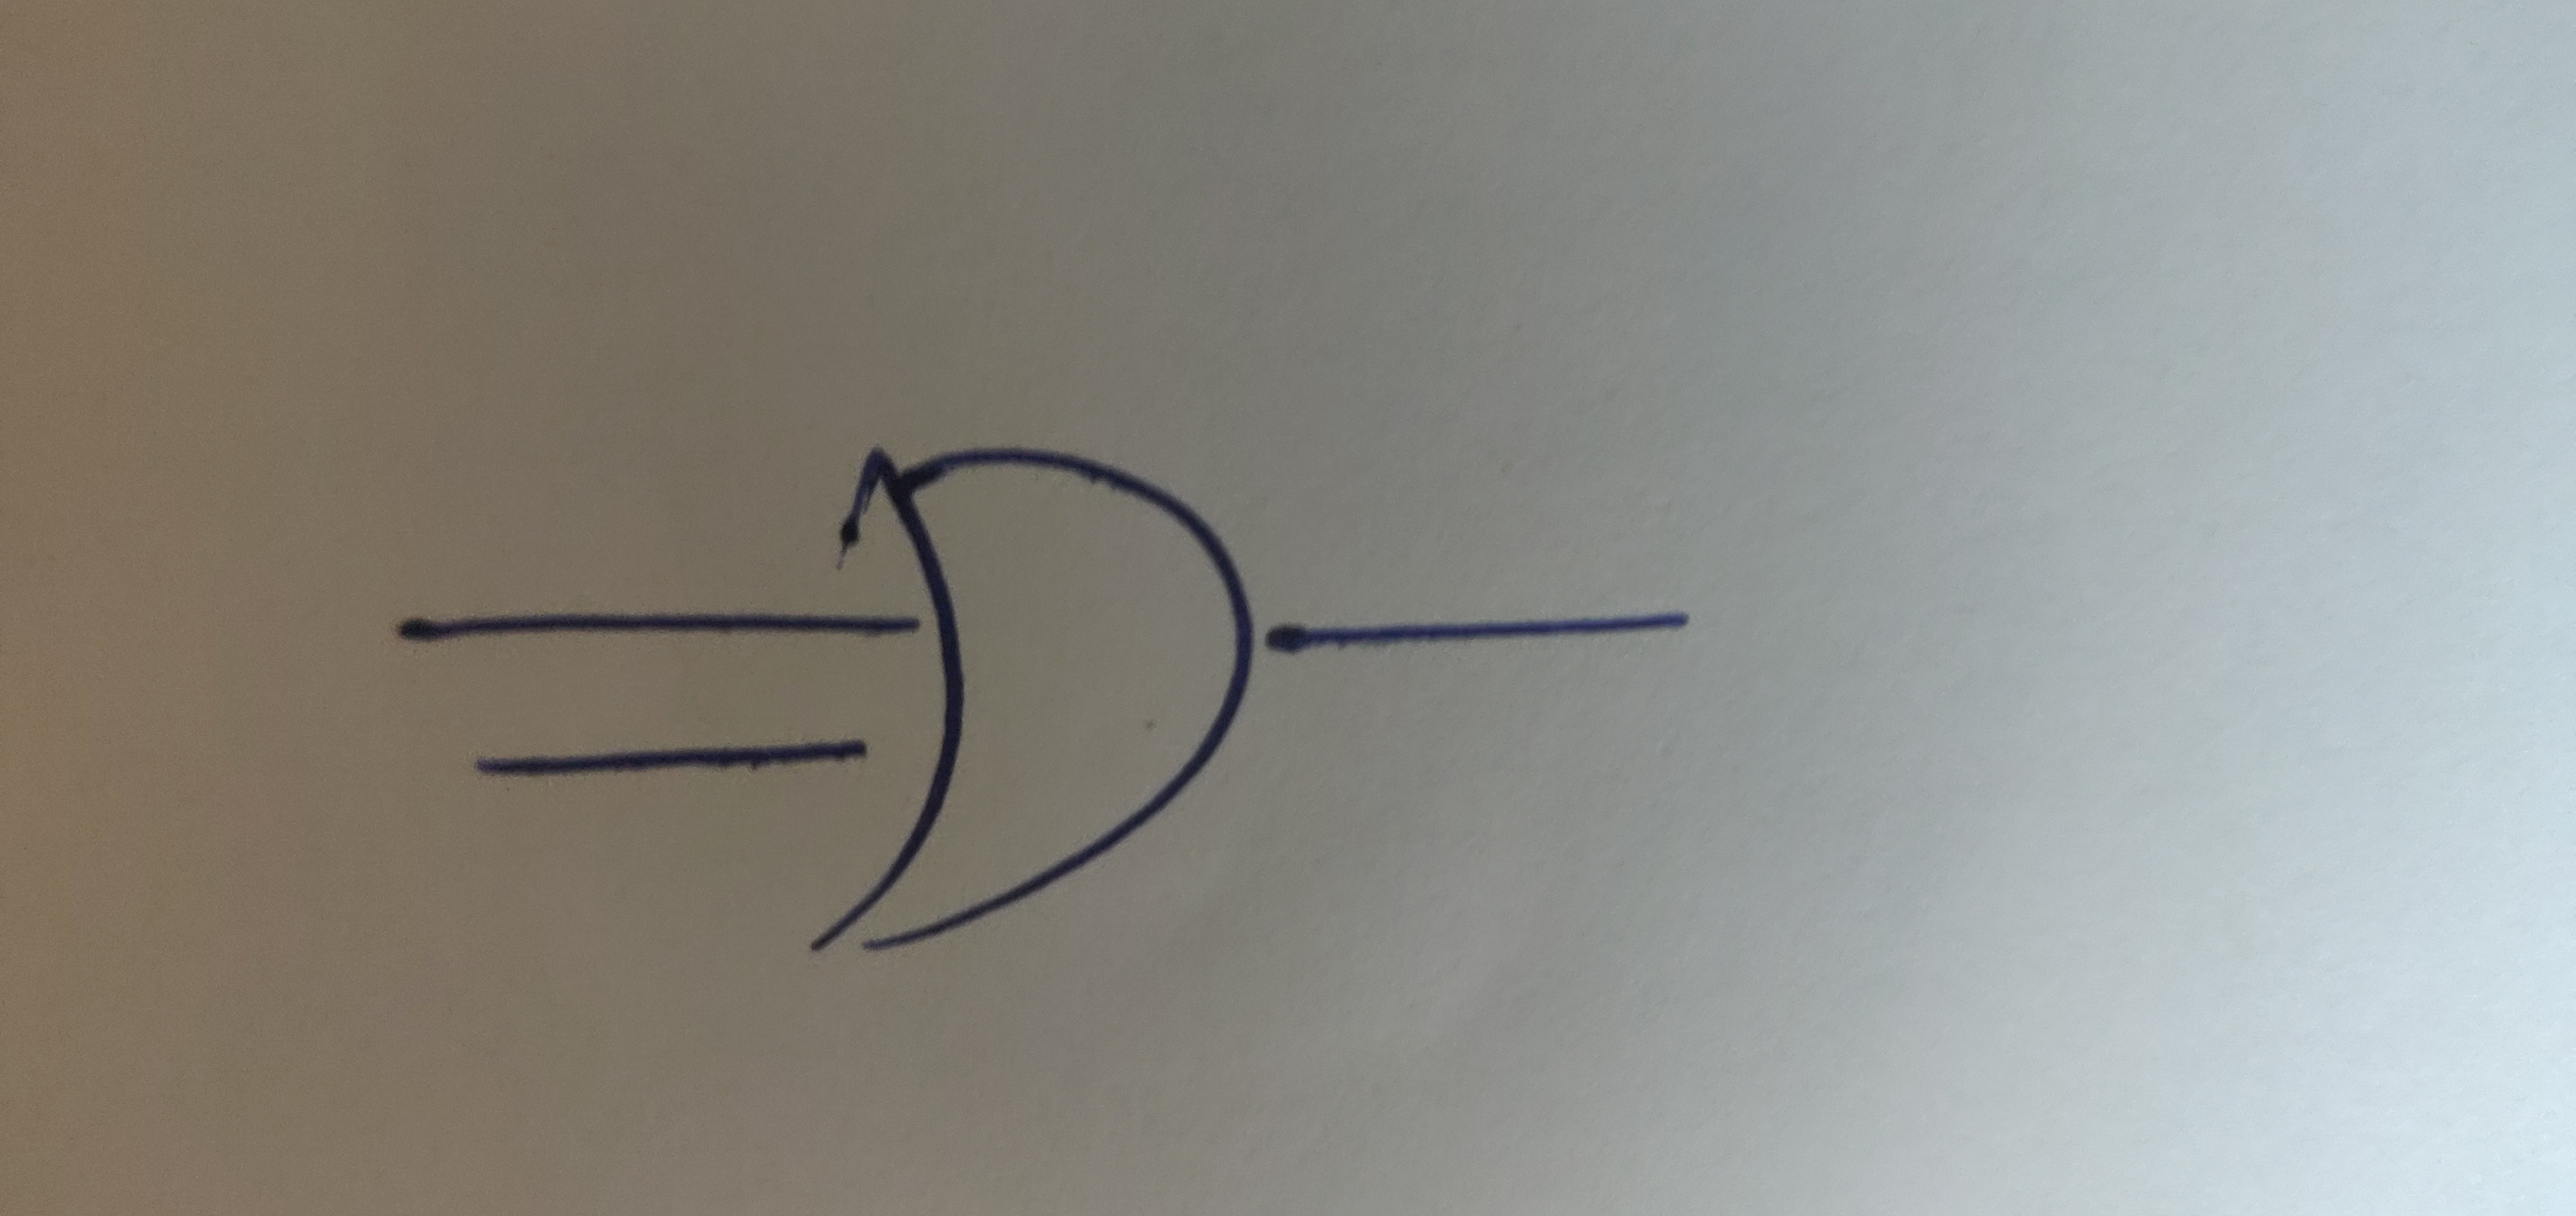or: (743, 371, 1403, 1039)
